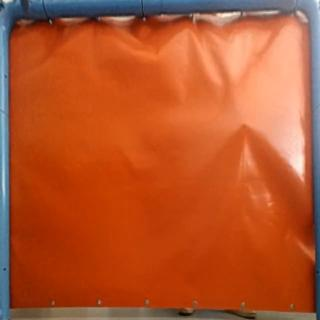Hit-hRxx: (240, 118, 251, 132)
